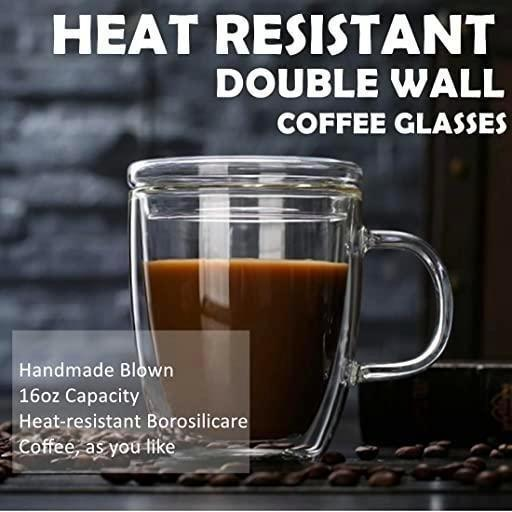glass-mug: (116, 150, 460, 463)
